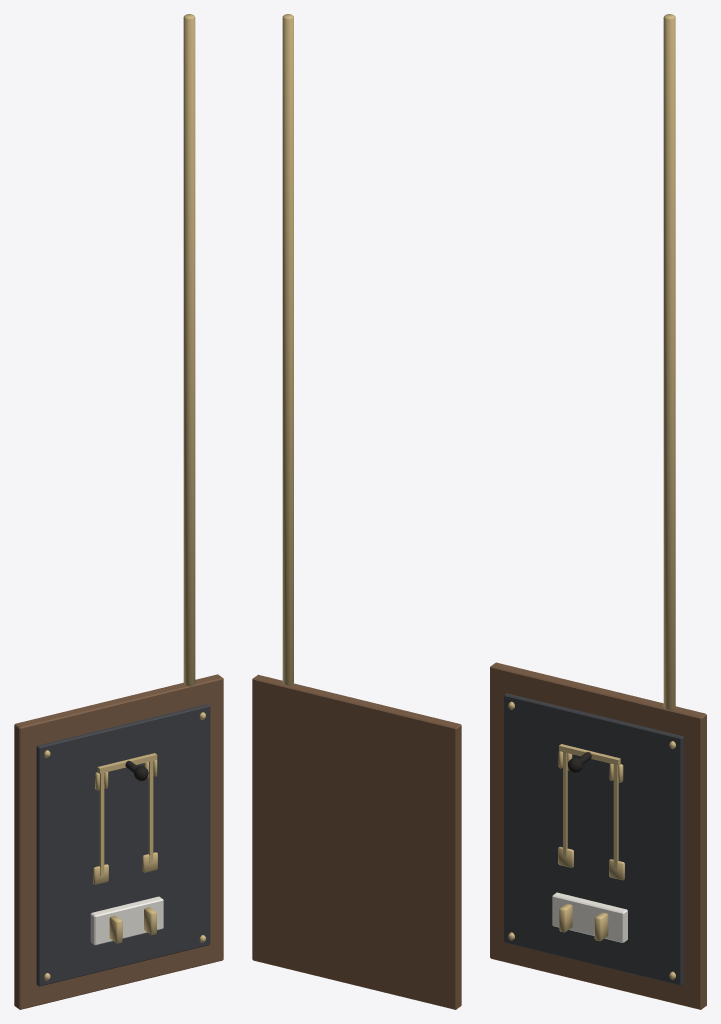
Rendered from study_breaker_board.glb.
3 renders of one model, left to right at view 1: azimuth 30°, elevation 25°; view 2: azimuth 150°, elevation 25°; view 3: azimuth 330°, elevation 25°, orthographic. The views are drawn at different scales.
Visible parts, largest first — view 1: Breaker_Board, LeverPivot; view 2: Breaker_Board; view 3: Breaker_Board, LeverPivot.
Part boxes in pixels (left/top/right/bottom): Breaker_Board: left=14, top=14, right=223, bottom=1009; LeverPivot: left=97, top=753, right=157, bottom=875; Breaker_Board: left=252, top=14, right=461, bottom=1009; Breaker_Board: left=490, top=14, right=706, bottom=1009; LeverPivot: left=559, top=744, right=620, bottom=870.
Size of the model in its own units: 0.5 by 2.22 by 0.123.
